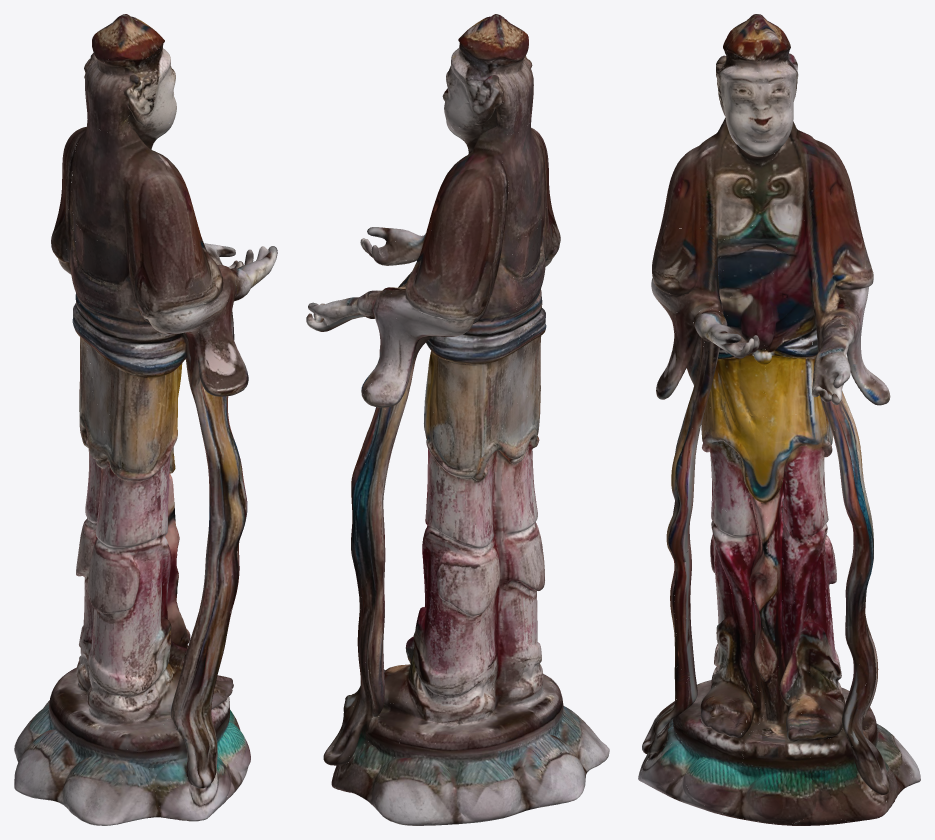
File: f2-attendant-yellow.glb
The picture shows the model from 3 angles, left to right: view 1: azimuth 30°, elevation 25°; view 2: azimuth 150°, elevation 25°; view 3: azimuth 270°, elevation 25°; orthographic projection.
Parts seen in each view (by area): view 1: tripo_node_6e263828-db48-4b7d-b98a-6490b0f5f87a; view 2: tripo_node_6e263828-db48-4b7d-b98a-6490b0f5f87a; view 3: tripo_node_6e263828-db48-4b7d-b98a-6490b0f5f87a.
Part boxes in pixels (<box>): tripo_node_6e263828-db48-4b7d-b98a-6490b0f5f87a: <box>14,14,277,825</box>; tripo_node_6e263828-db48-4b7d-b98a-6490b0f5f87a: <box>306,14,609,825</box>; tripo_node_6e263828-db48-4b7d-b98a-6490b0f5f87a: <box>638,14,920,825</box>.
Size of the model in its own units: 0.3394 by 1 by 0.3391.
Materials: 1 (1 with a texture image).
